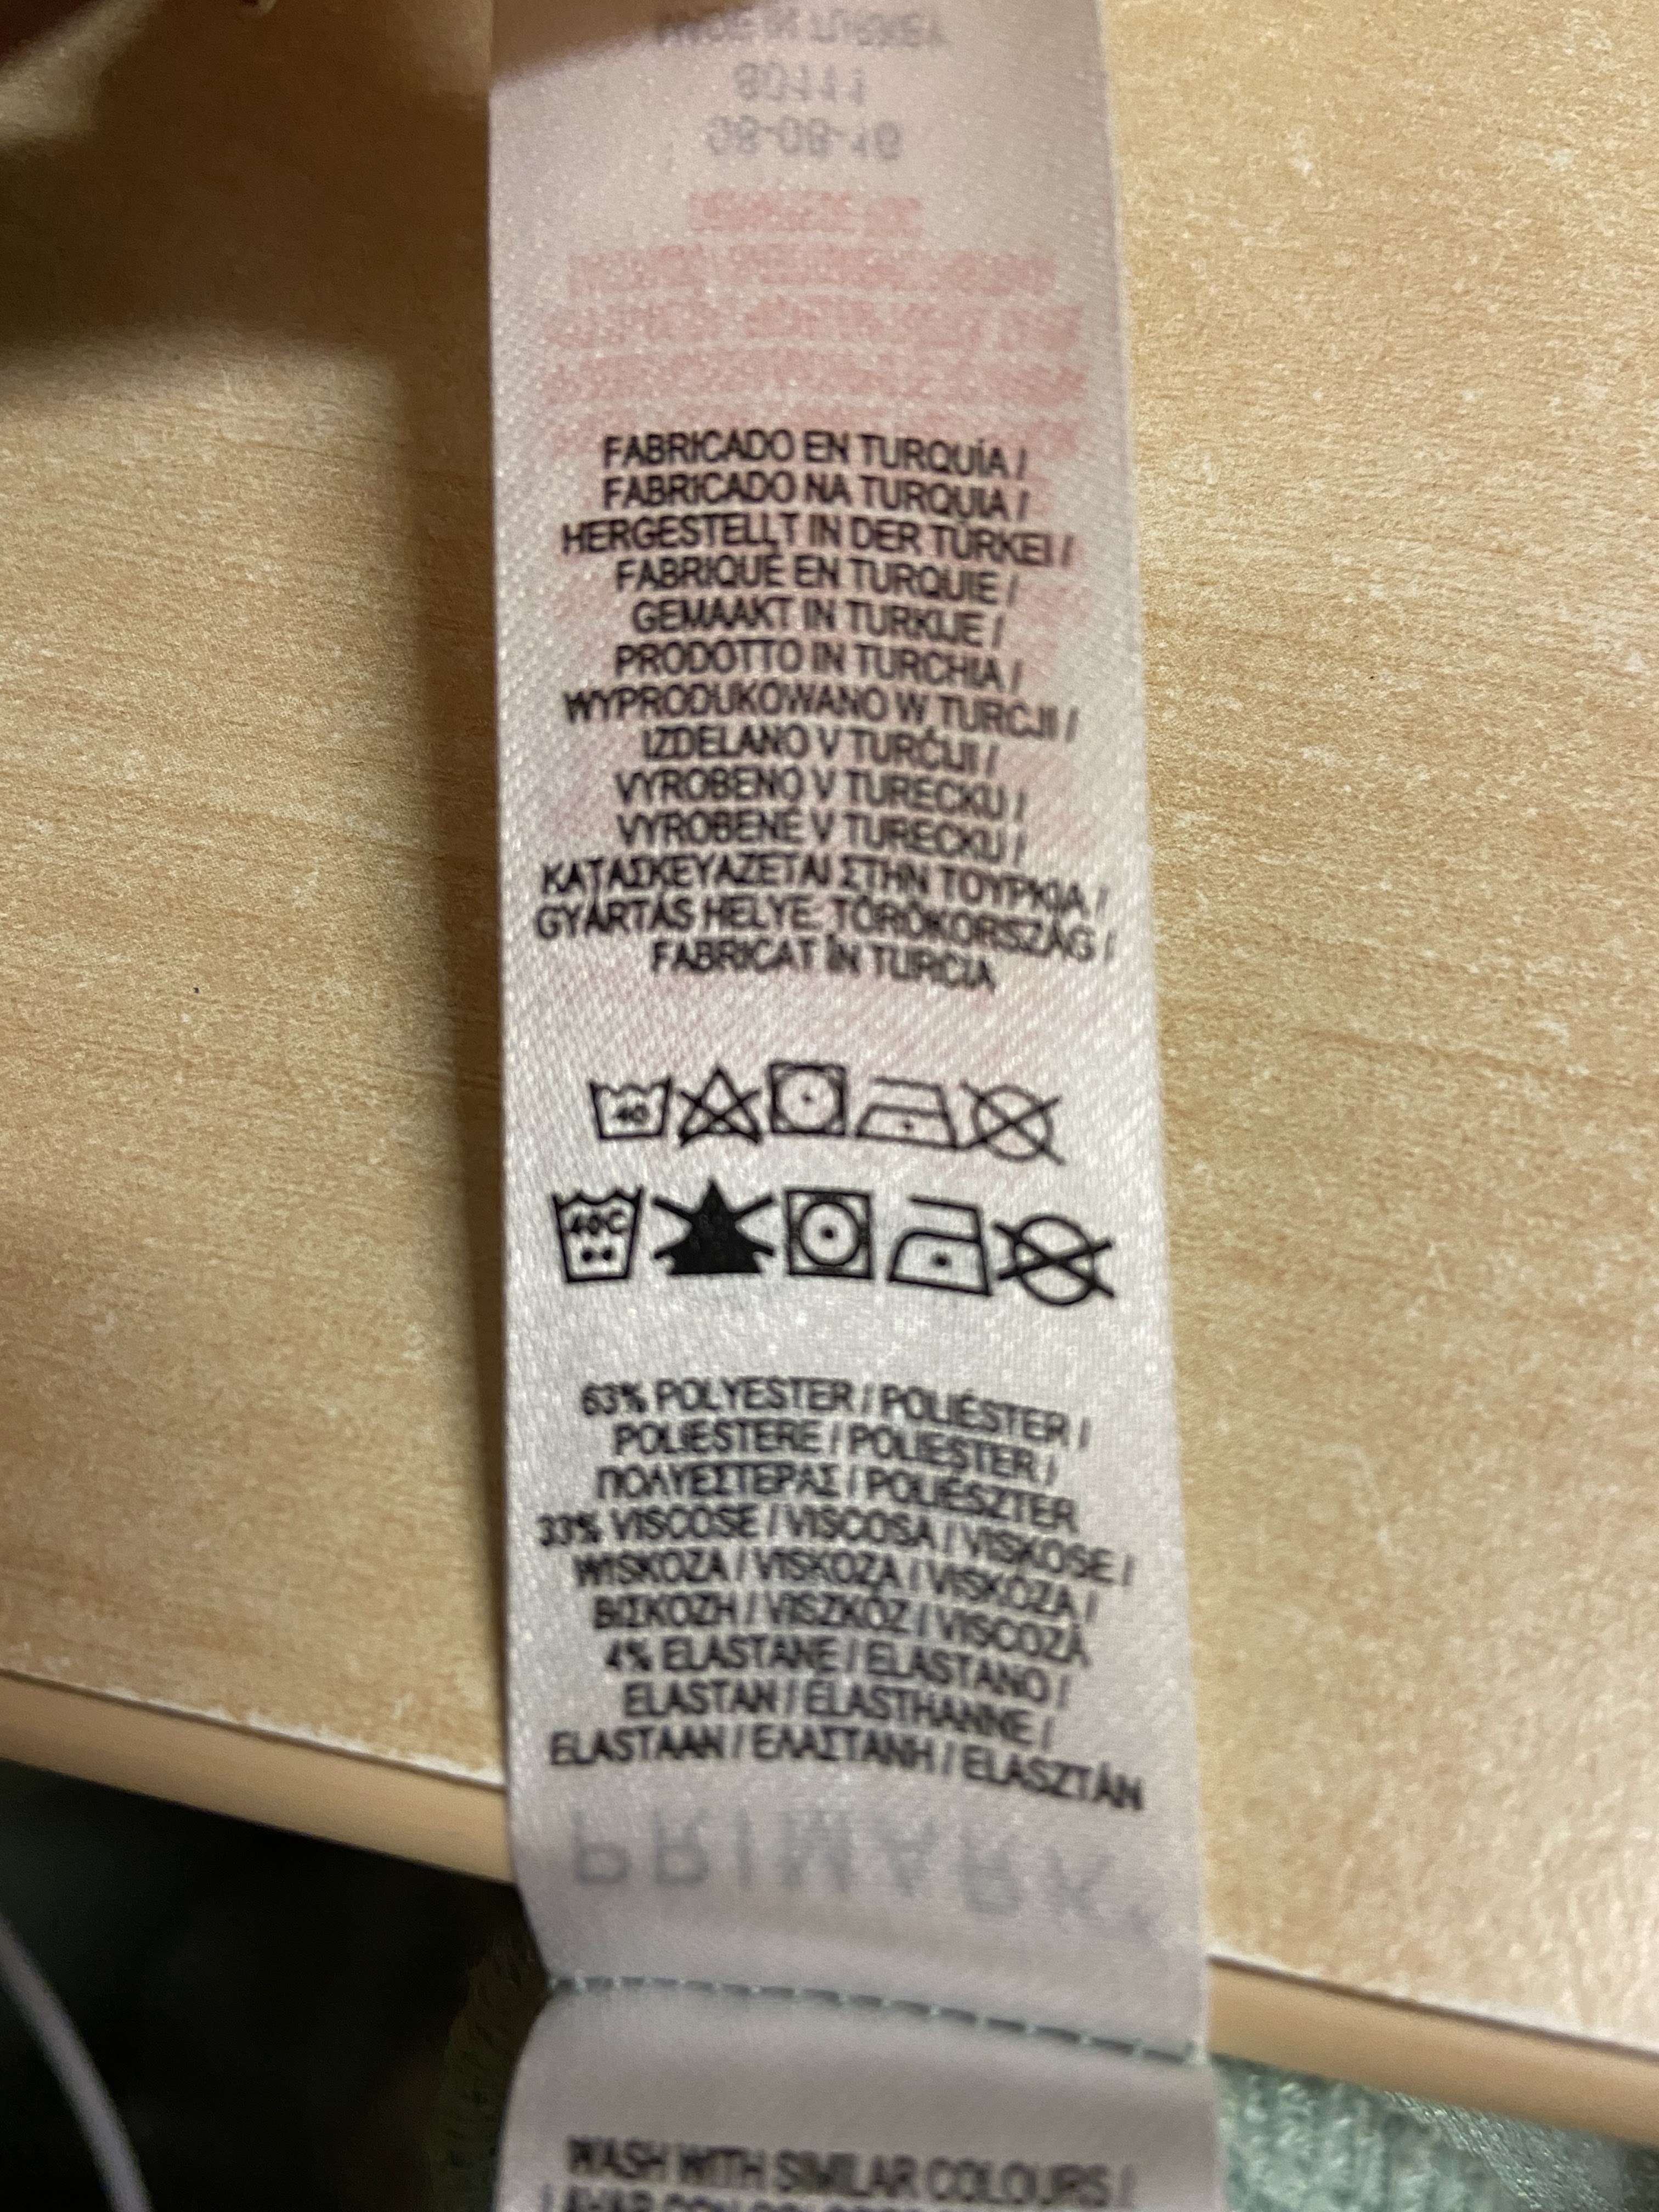do not bleach: (671, 1055, 769, 1163)
do not dry clean: (965, 1047, 1086, 1181)
iron low temp: (856, 1049, 964, 1169)
tumble dry low temp: (758, 1042, 854, 1151)
wash at or below 40: (577, 1061, 676, 1158)
